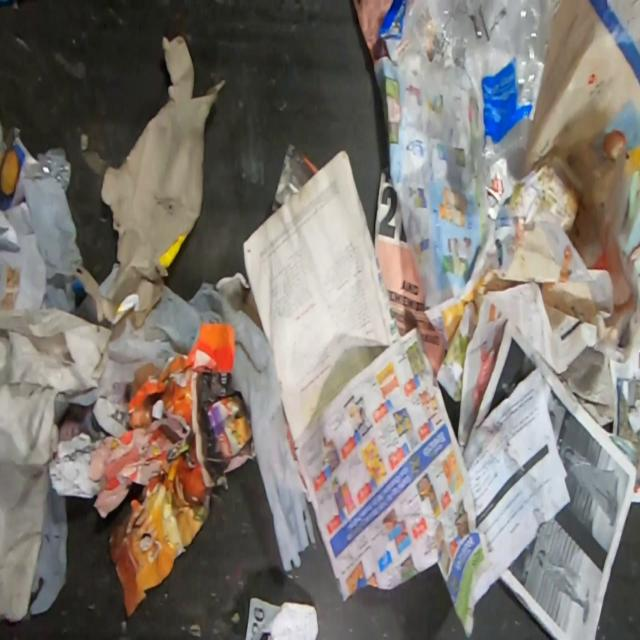rigid_plastic: (36, 147, 73, 192)
soft_plastic: (383, 0, 555, 176)
